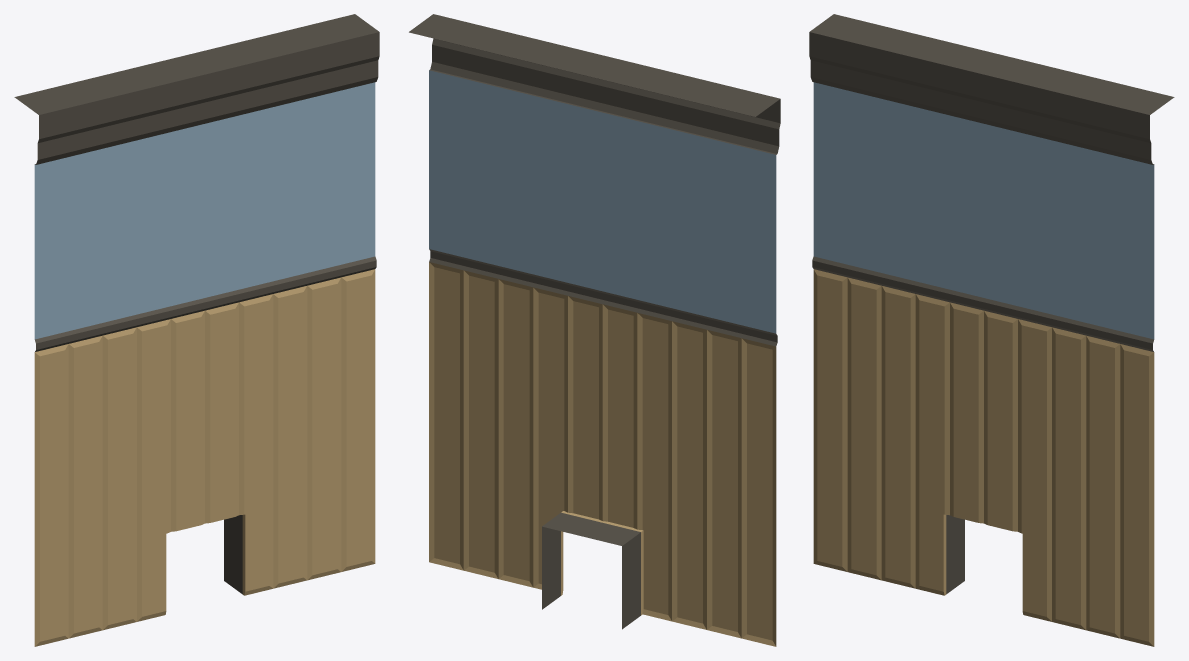
The model's file is Kitchen_RatHole.fbx.
3 renders of one model, left to right at view 1: azimuth 30°, elevation 25°; view 2: azimuth 150°, elevation 25°; view 3: azimuth 330°, elevation 25°, orthographic.
Visible parts, largest first — view 1: Kitchen_RatHole; view 2: Kitchen_RatHole; view 3: Kitchen_RatHole.
Boxes of the visible parts, <box> form: Kitchen_RatHole: <box>14,14,379,646</box>; Kitchen_RatHole: <box>409,14,780,646</box>; Kitchen_RatHole: <box>809,14,1174,646</box>.
Bounding box in the file's own units: 200 × 300 × 25.
